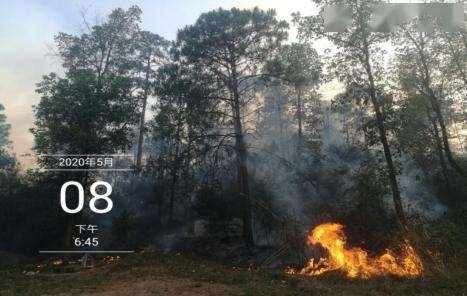fire: (287, 218, 425, 278)
